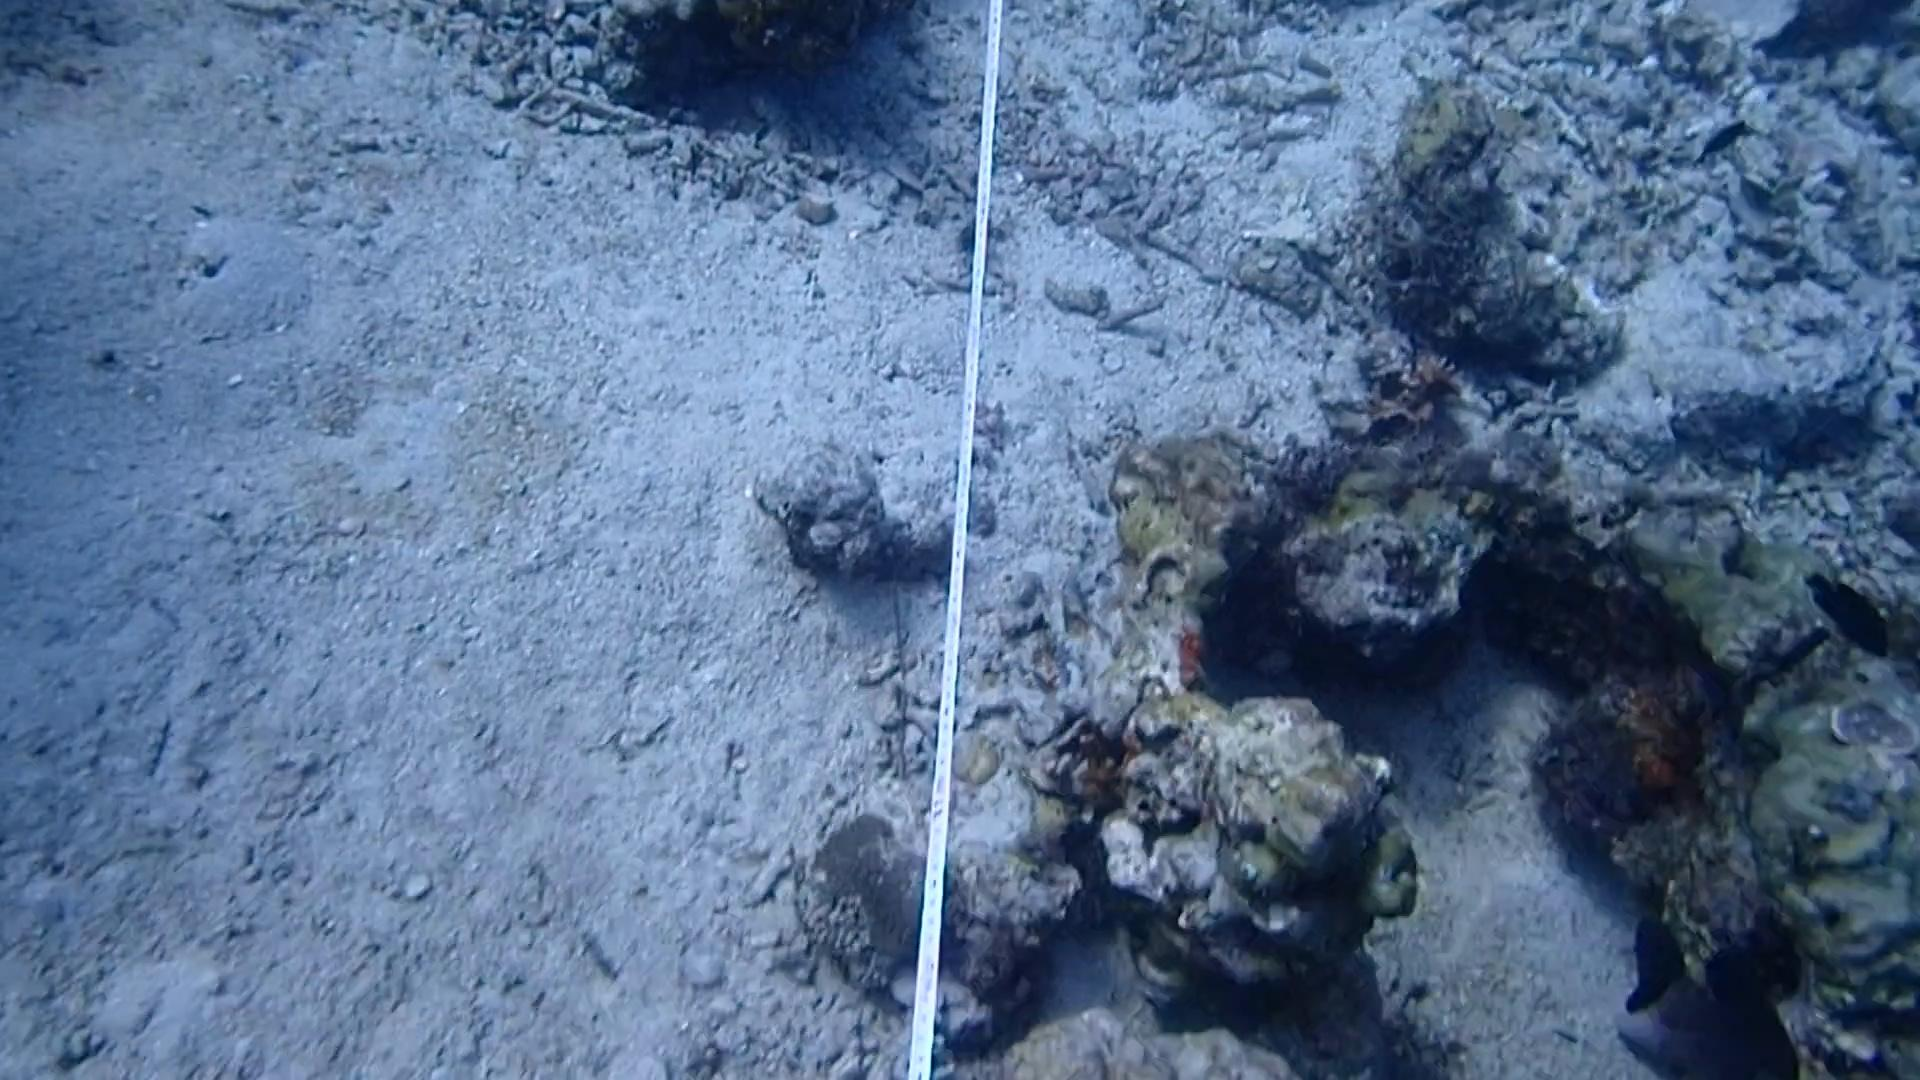Dark Fish: (1698, 945, 1807, 1080), (1793, 554, 1896, 659), (1617, 919, 1687, 1018), (1679, 105, 1766, 170)
